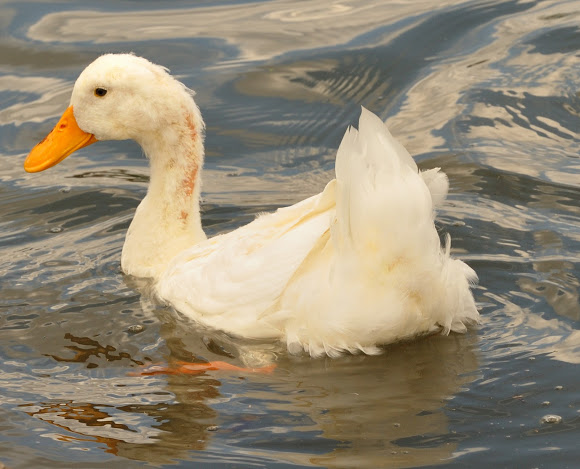Mencari Makan di Lumpur: (15, 105, 98, 179)
